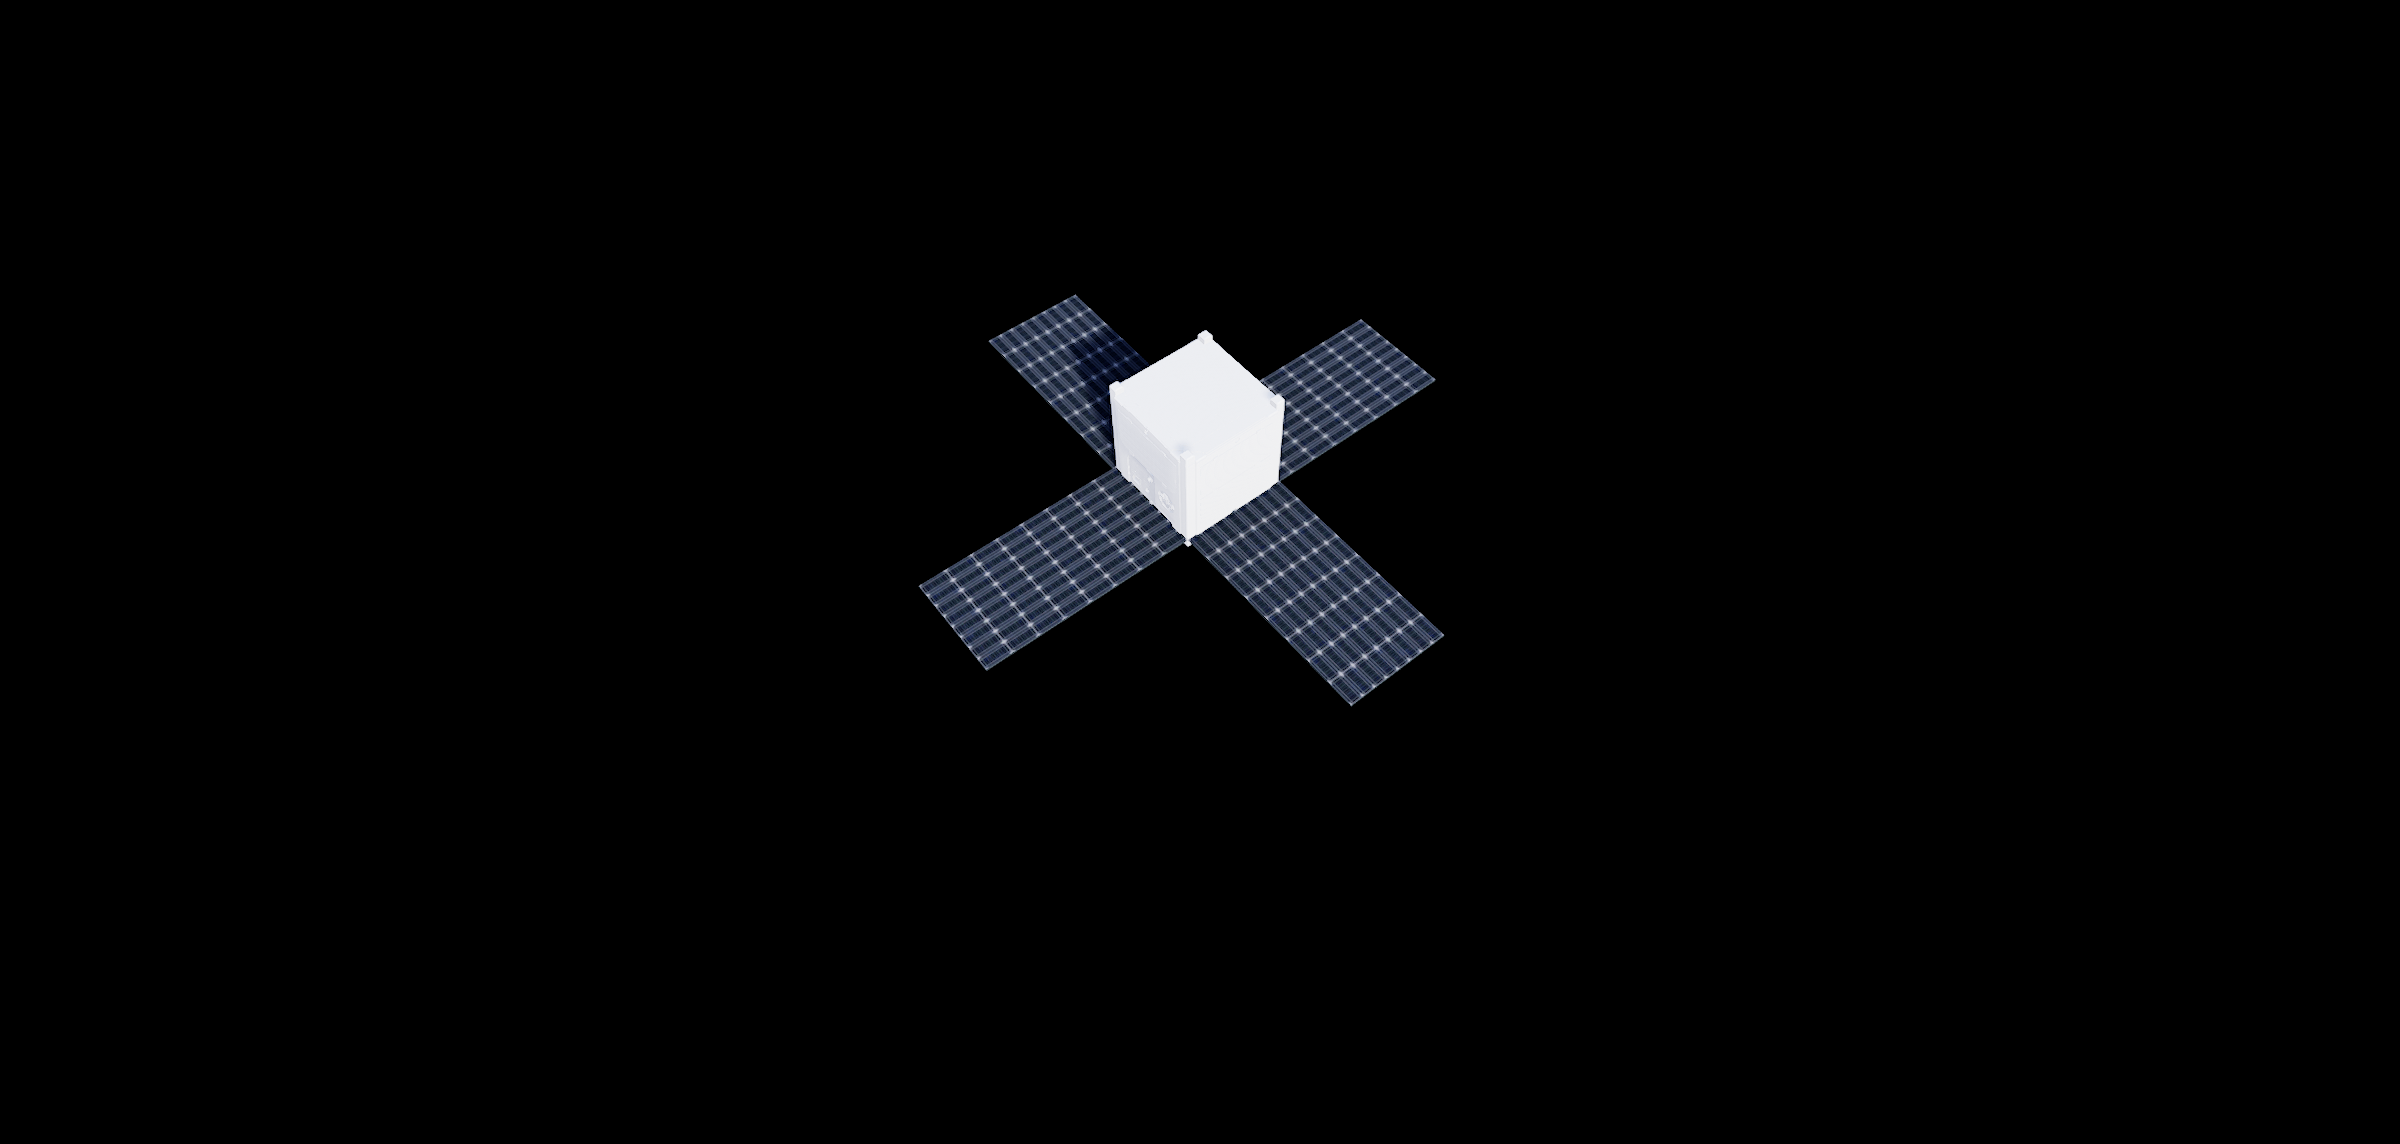satellite: (820, 254, 1502, 740)
